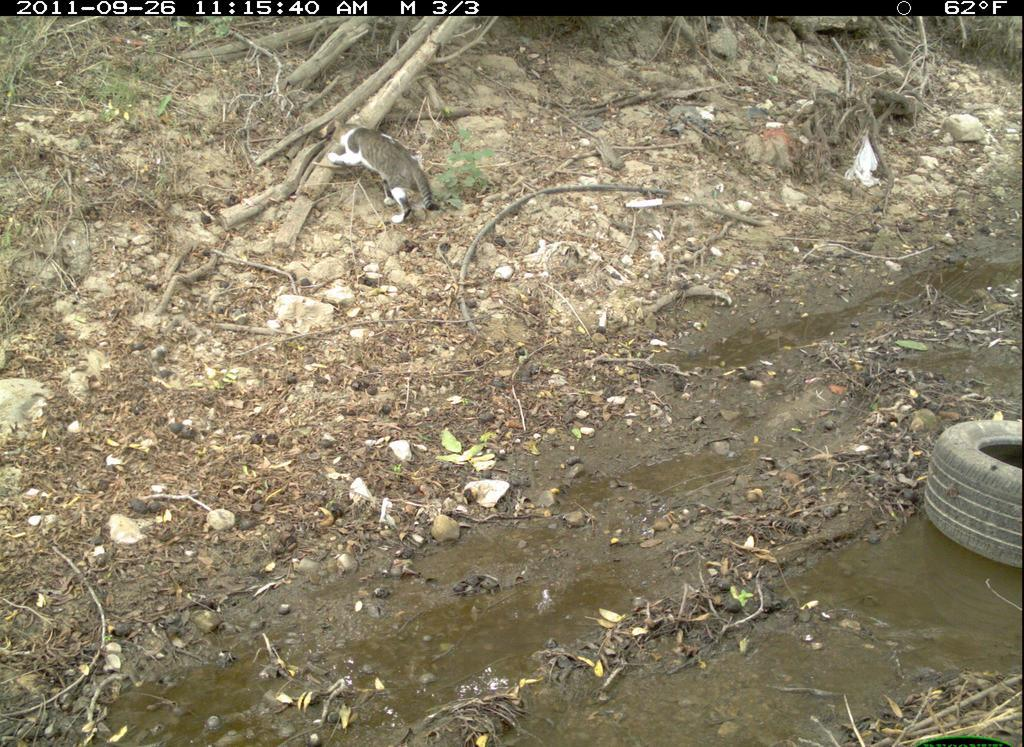cat: (313, 113, 442, 228)
